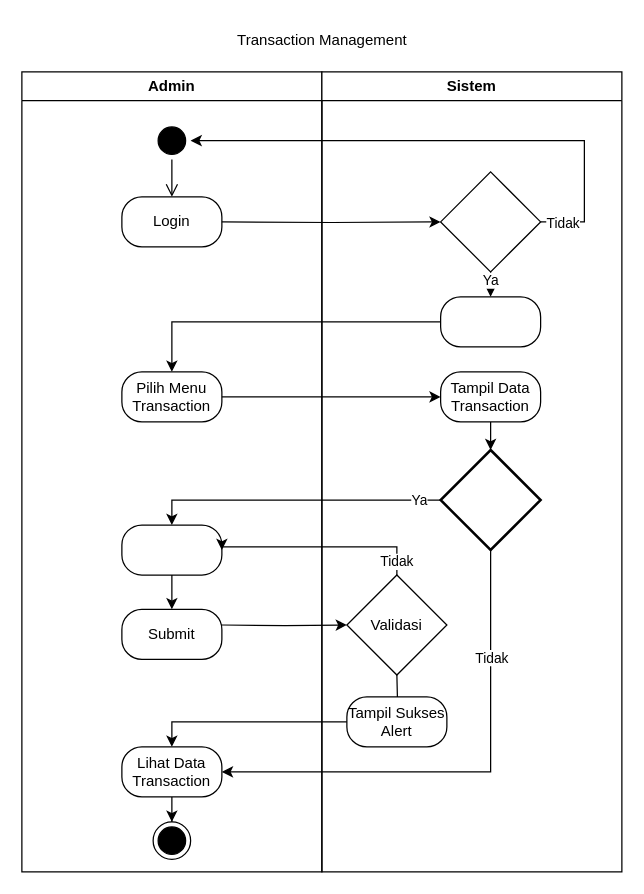
Some shapes in this 644 by 894 pixel diagram are drawn without their labels. The centre of each missing label's shape, as x and y in pixels:
Detail Transaction: [490,499]
Konfirmasi Pembayaran: [171,549]
Tampil Dashboard: [490,321]
Verifikasi: [490,221]
